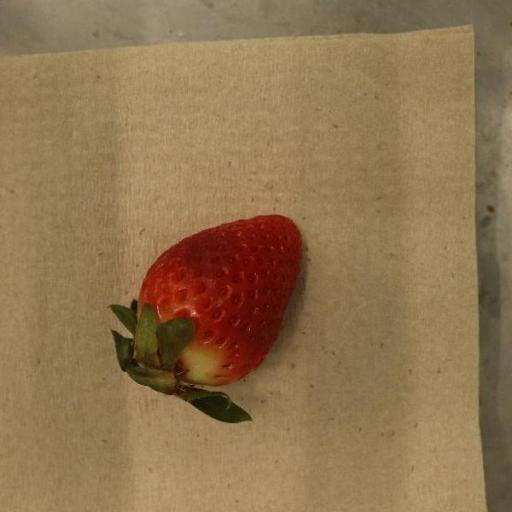Strawberry: (109, 215, 302, 425)
